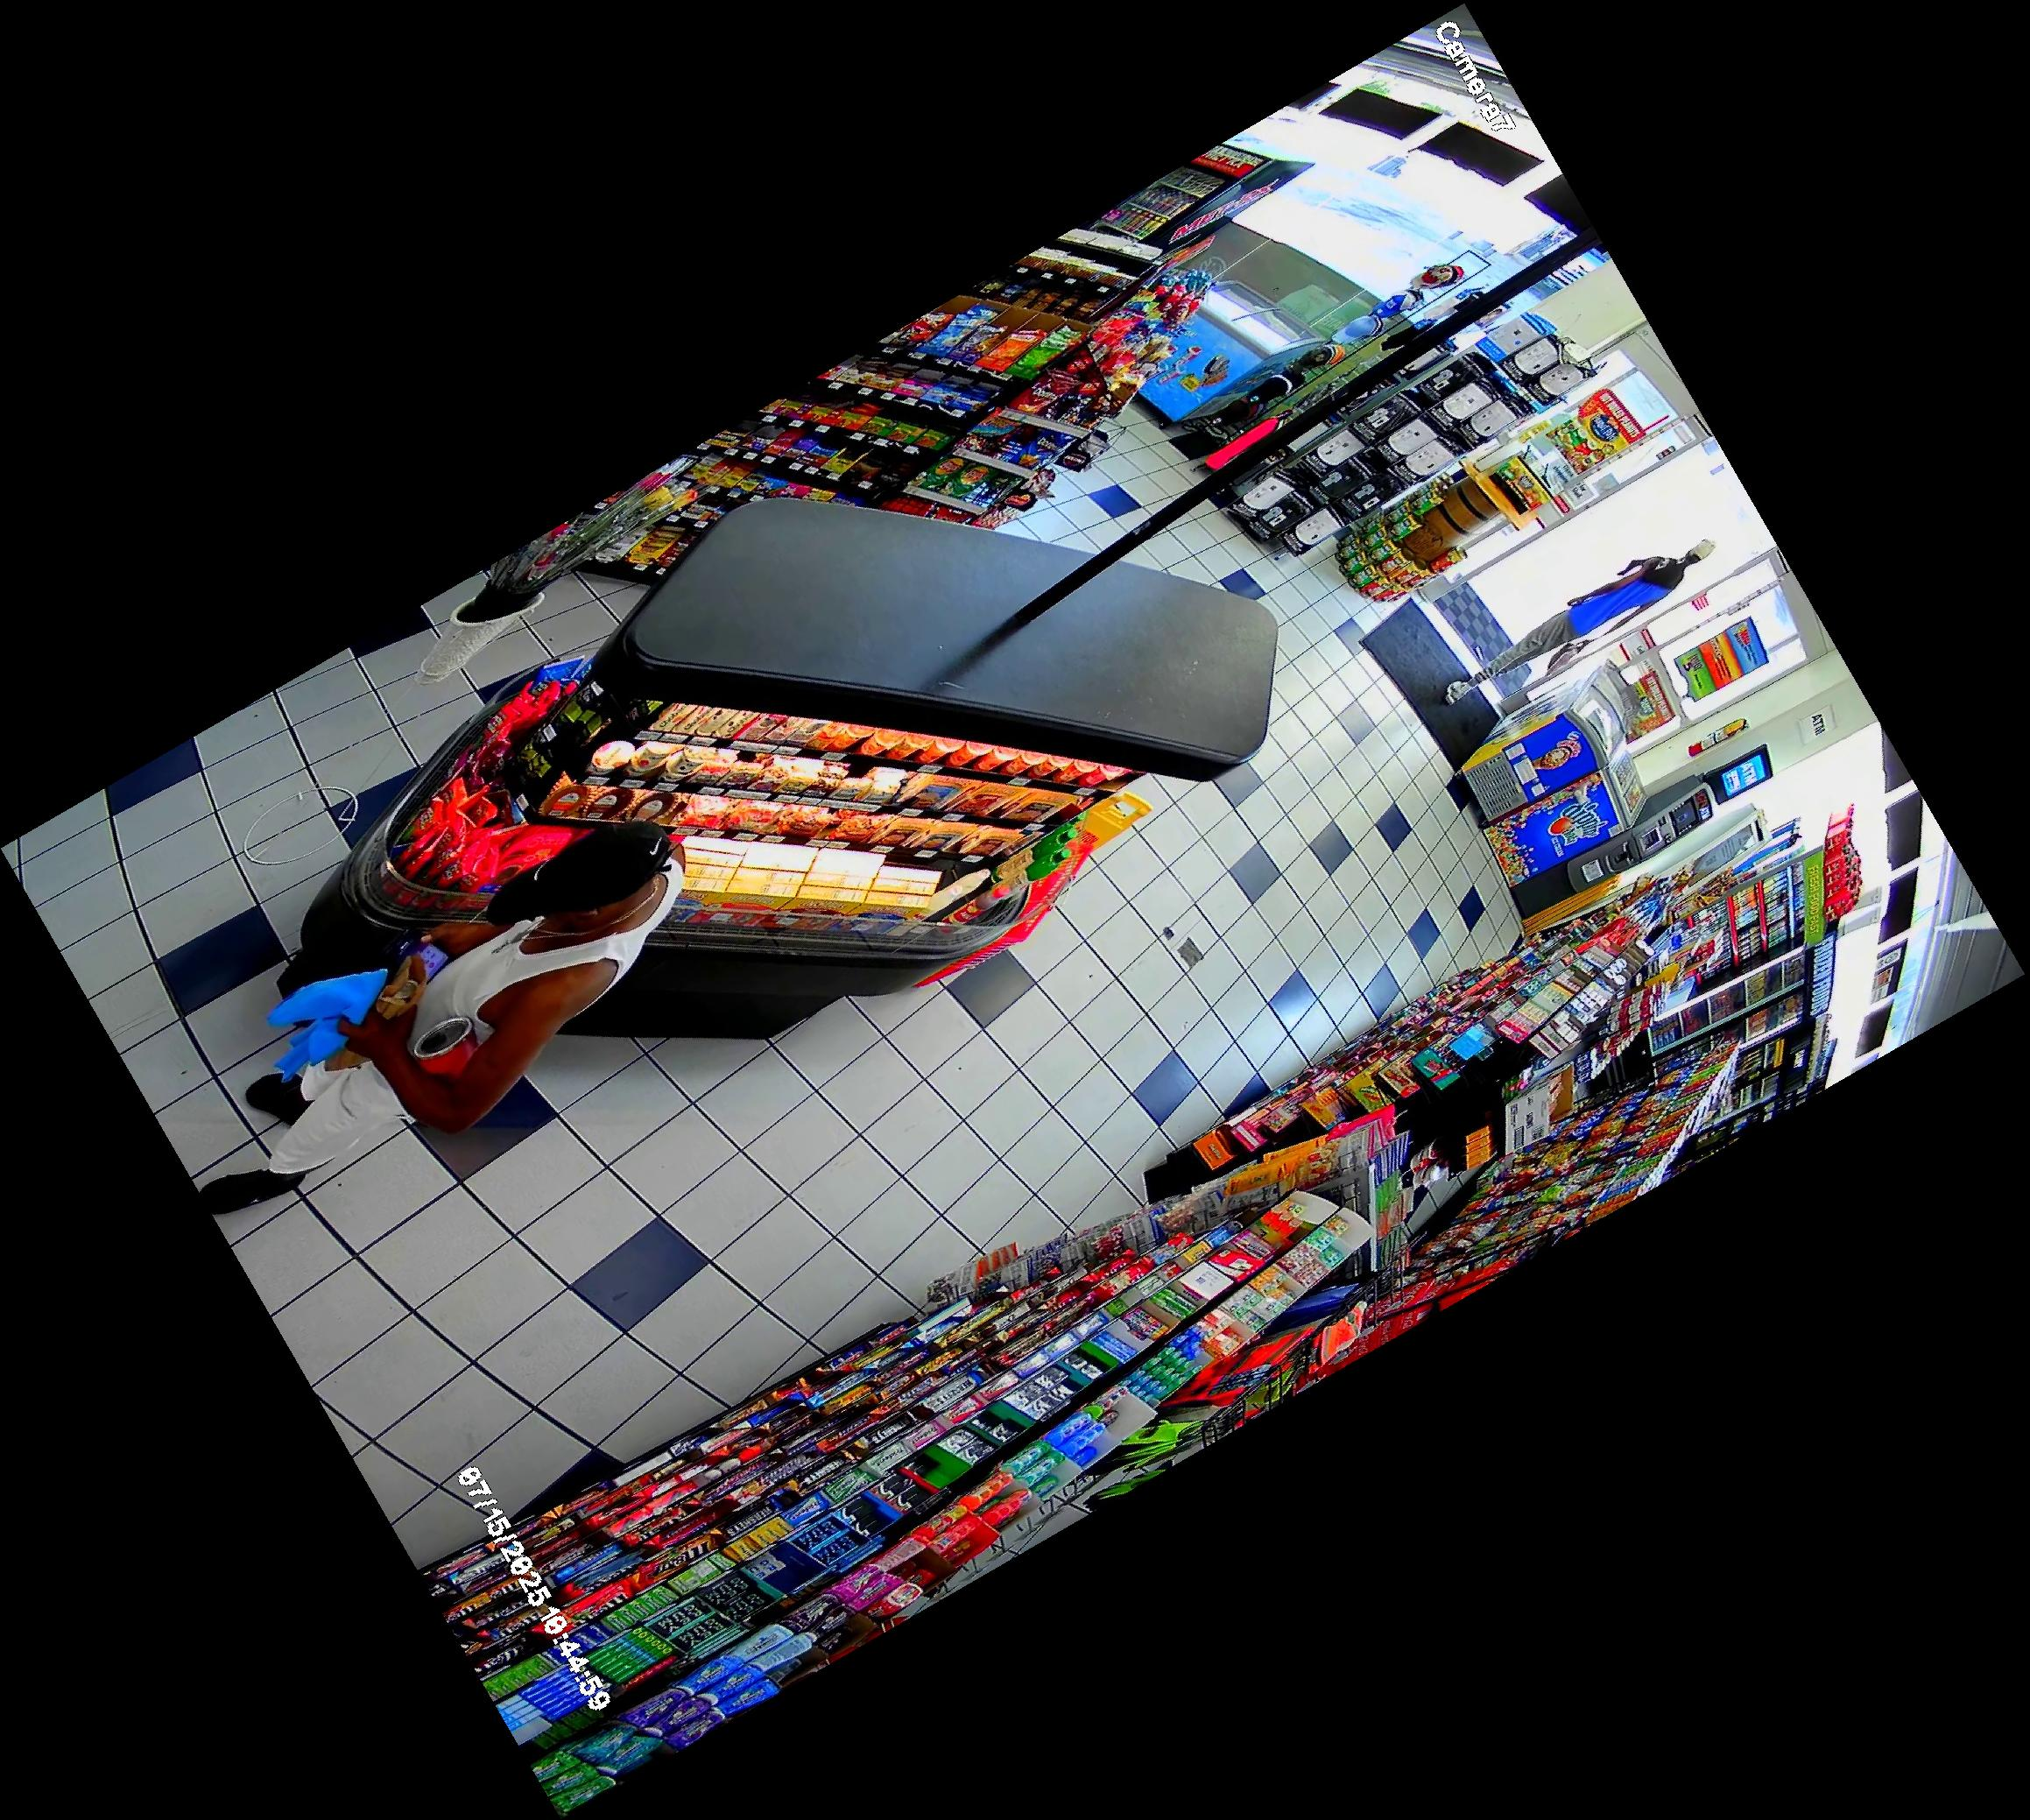phone: (385, 929, 453, 994)
